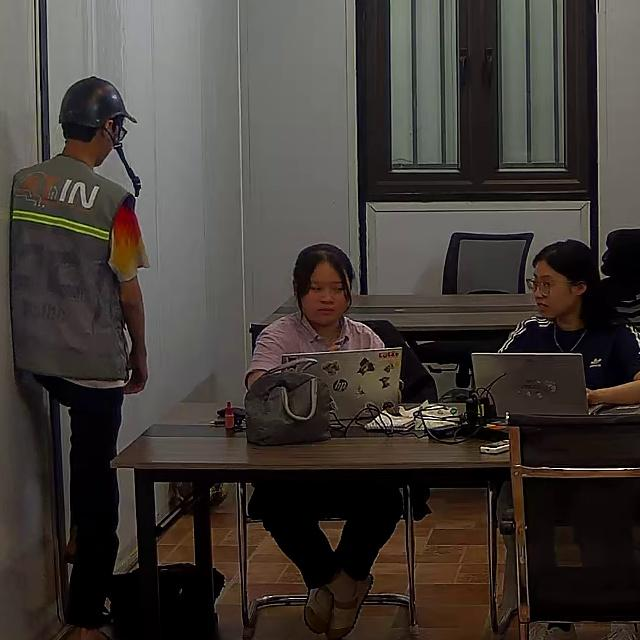helmet: (57, 75, 139, 130)
no_helmet: (535, 236, 625, 328), (291, 243, 355, 320)
none: (494, 315, 639, 393), (246, 311, 385, 390)
vest: (7, 155, 144, 382)
